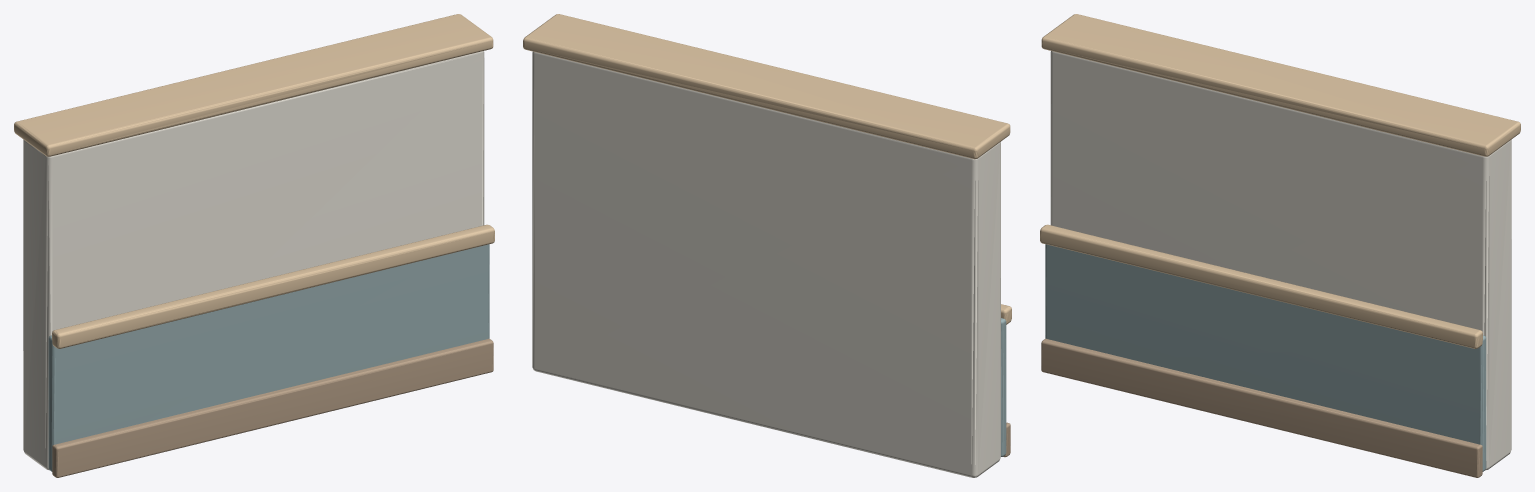
Rendered from WallPanel.fbx.
3 renders of one model, left to right at view 1: azimuth 30°, elevation 25°; view 2: azimuth 150°, elevation 25°; view 3: azimuth 330°, elevation 25°, orthographic.
Visible parts, largest first — view 1: WallPanel; view 2: WallPanel; view 3: WallPanel.
Boxes of the visible parts, x1=… form: WallPanel: x1=14, y1=14, x2=494, y2=477; WallPanel: x1=523, y1=14, x2=1011, y2=477; WallPanel: x1=1040, y1=14, x2=1520, y2=477.
Bounding box in the file's own units: 1.94 × 1.37 × 0.3055.
